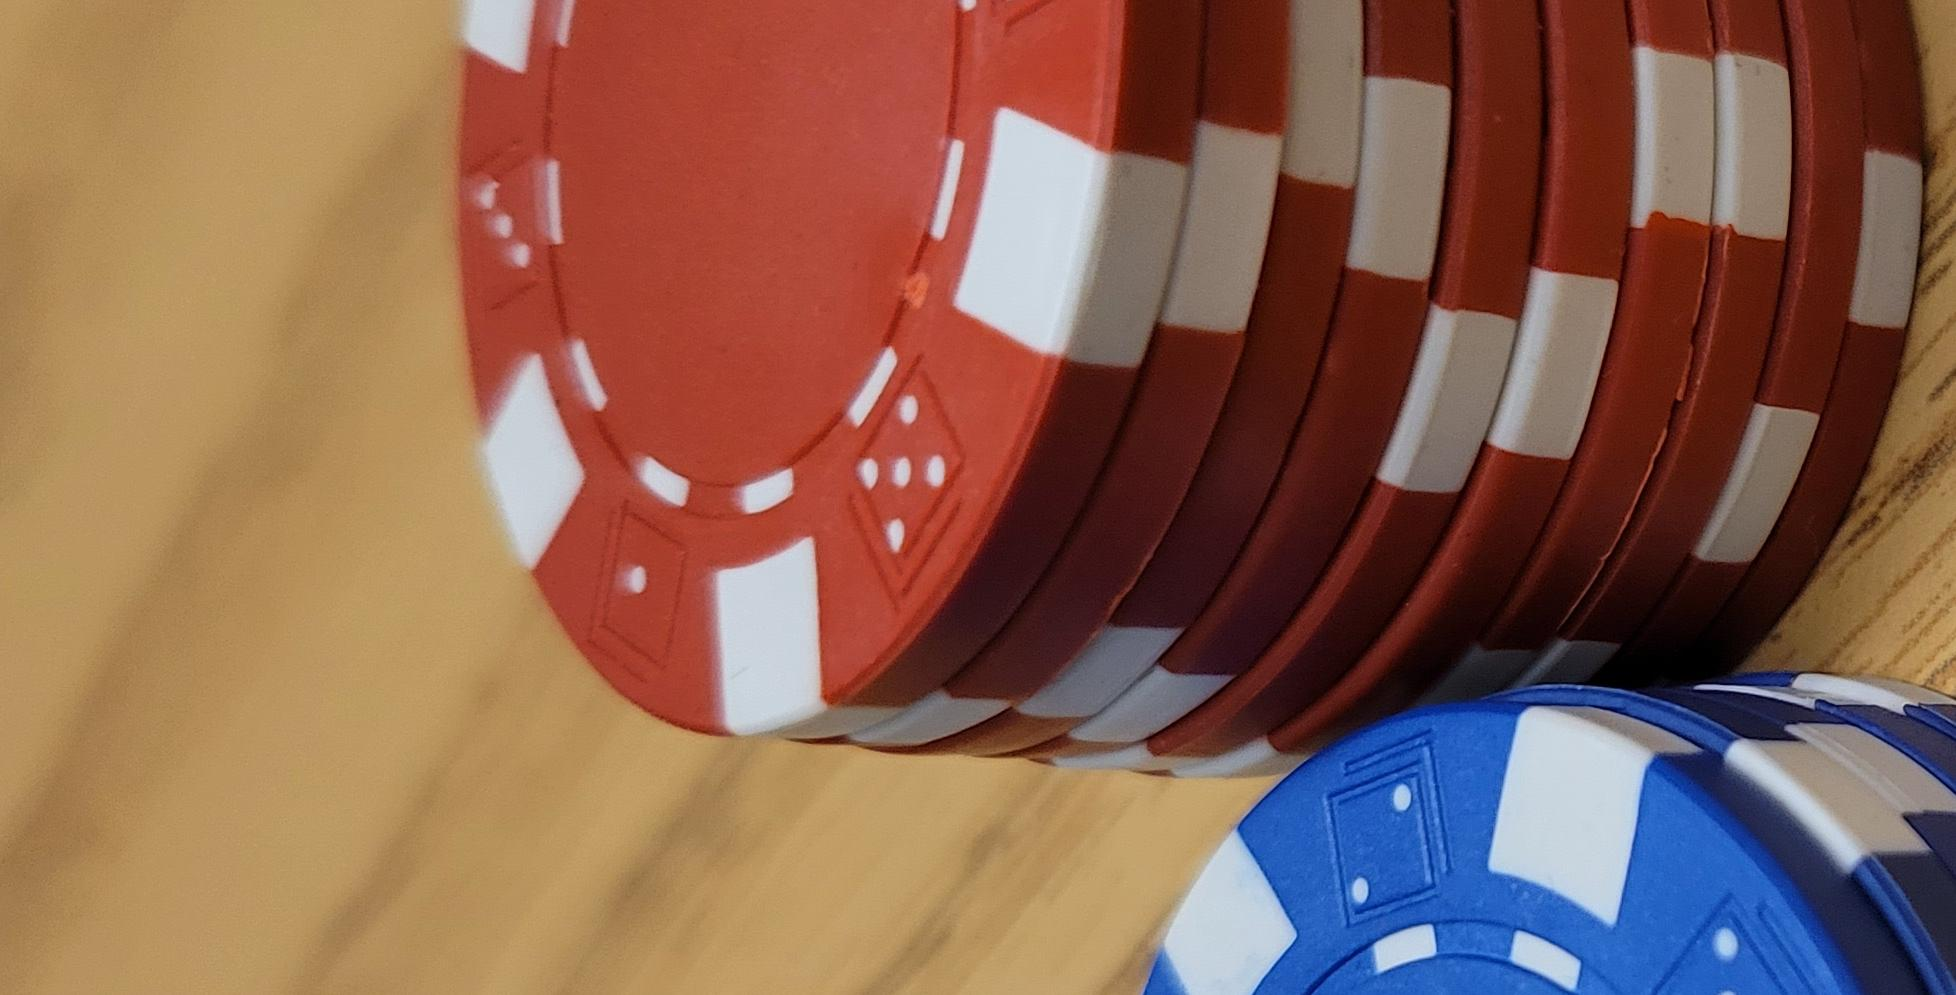Chip: (1, 292, 1445, 995)
